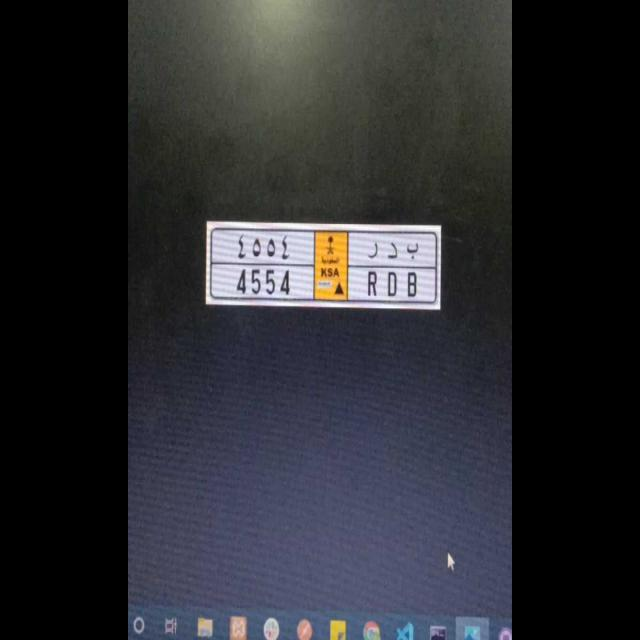license_plate: (210, 266, 437, 302)
